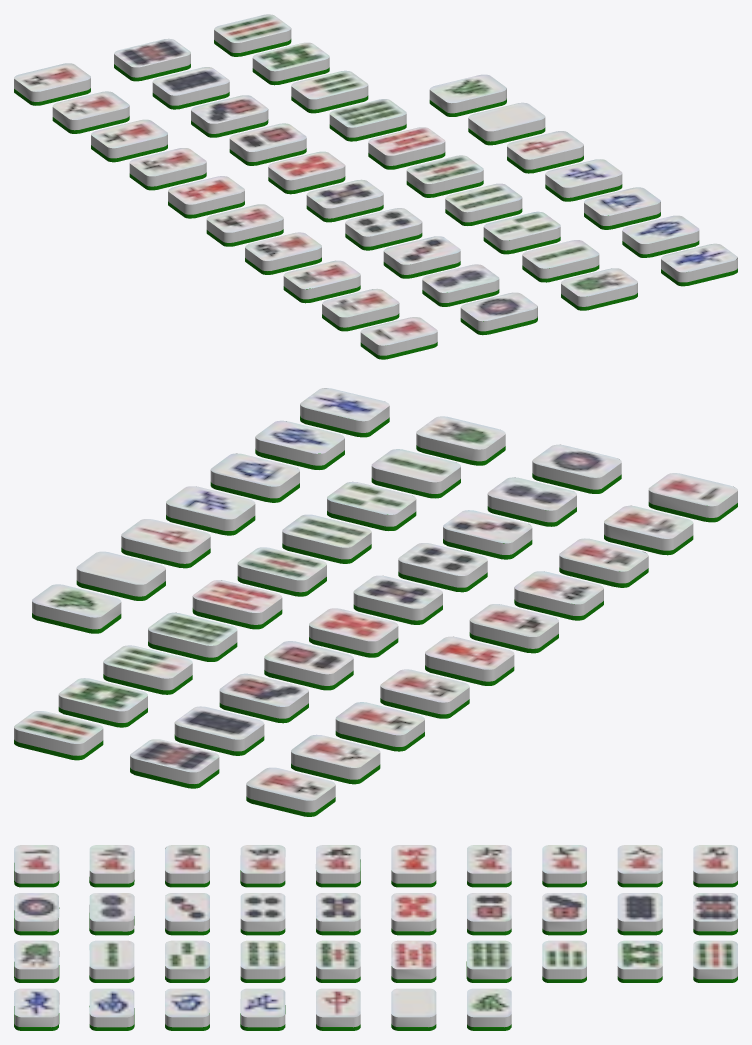
File: mahjong-set.gltf
3 renders of one model, top to bottom at view 1: azimuth 30°, elevation 25°; view 2: azimuth 150°, elevation 25°; view 3: azimuth 270°, elevation 25°, orthographic. The views are drawn at different scales.
Visible parts, largest first — view 1: Sketchfab_model; view 2: Sketchfab_model; view 3: Sketchfab_model.
Boxes of the visible parts, x1,y1,x2,y2 form: Sketchfab_model: (14,14,737,359); Sketchfab_model: (14,388,737,816); Sketchfab_model: (14,845,737,1030).
Bounding box in the file's own units: 0.486 × 0.018 × 0.8637.
3 materials, 1 textured.
